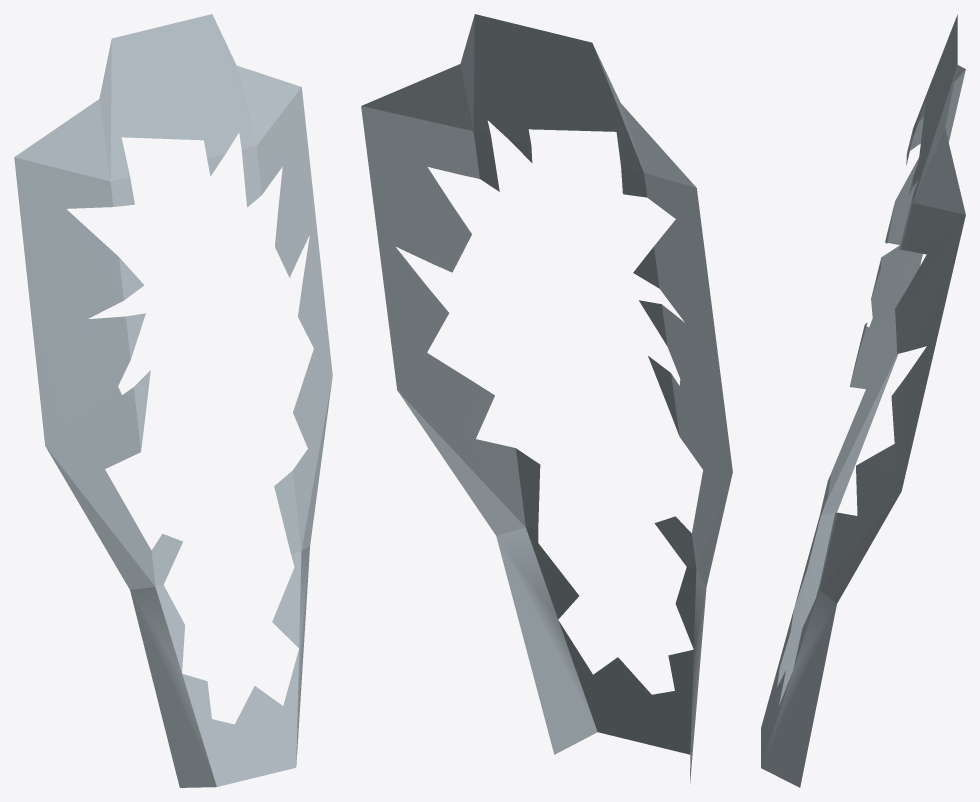
Rendered from BrockenCryoGlass.fbx.
The picture shows the model from 3 angles, left to right: view 1: azimuth 30°, elevation 25°; view 2: azimuth 150°, elevation 25°; view 3: azimuth 270°, elevation 25°; orthographic projection. The views are drawn at different scales.
Visible parts, largest first — view 1: FrozenCryoGlass1; view 2: FrozenCryoGlass1; view 3: FrozenCryoGlass1.
Part boxes in pixels (<box>): FrozenCryoGlass1: <box>14,14,332,787</box>; FrozenCryoGlass1: <box>361,14,732,787</box>; FrozenCryoGlass1: <box>761,14,965,787</box>.
Size of the model in its own units: 91.49 by 210 by 54.33.
